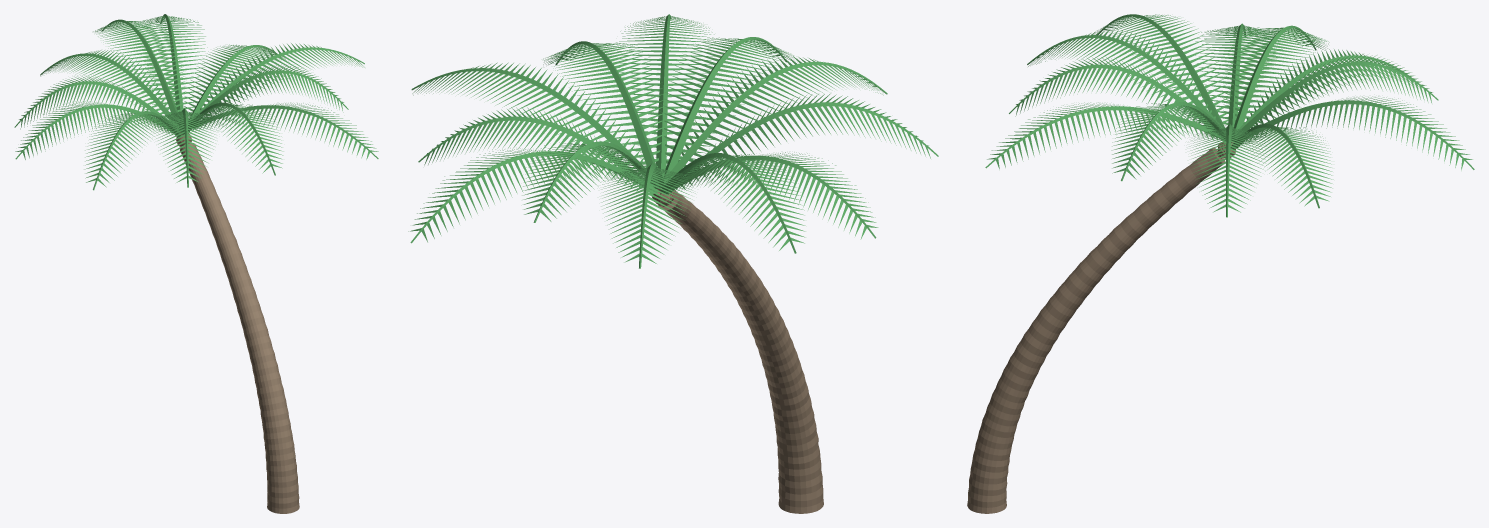
The picture shows the model from 3 angles, left to right: view 1: azimuth 30°, elevation 25°; view 2: azimuth 150°, elevation 25°; view 3: azimuth 270°, elevation 25°; orthographic projection. The views are drawn at different scales.
Parts seen in each view (by area): view 1: fronds, trunk; view 2: fronds, trunk; view 3: fronds, trunk.
Boxes of the visible parts, left/top/right/bottom form: fronds: left=14, top=14, right=378, bottom=190; trunk: left=180, top=143, right=299, bottom=513; fronds: left=408, top=14, right=938, bottom=268; trunk: left=658, top=190, right=823, bottom=513; fronds: left=985, top=14, right=1474, bottom=217; trunk: left=967, top=147, right=1225, bottom=513.
Bounding box in the file's own units: 14.82 × 15.28 × 15.77.
